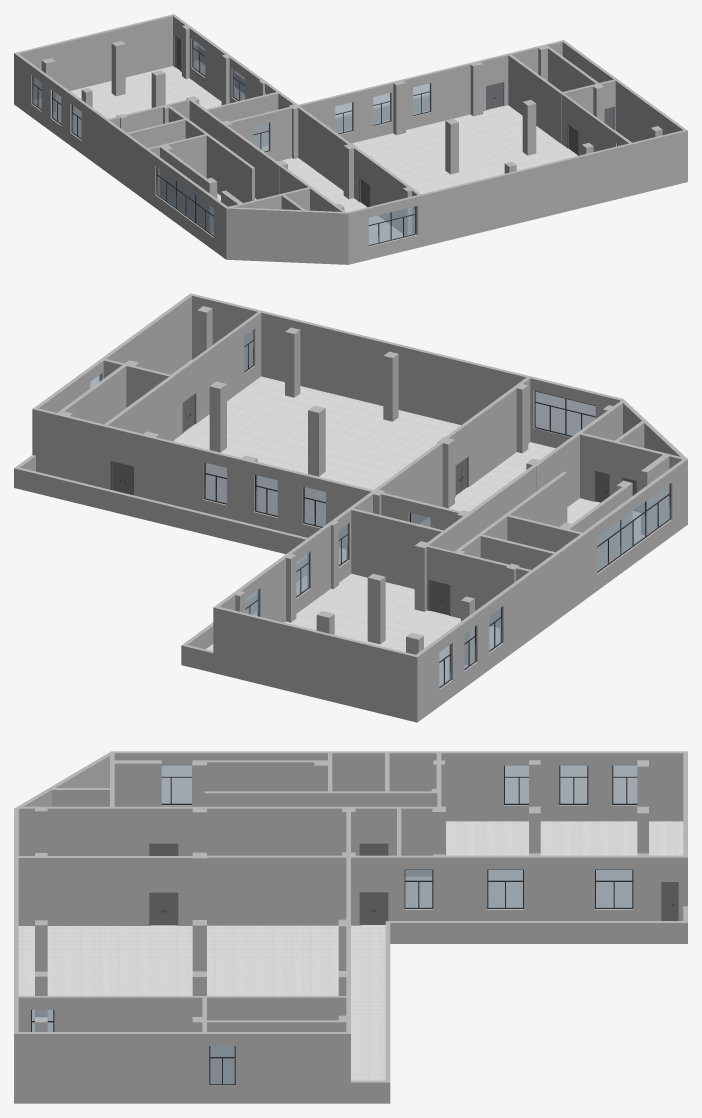
The model's file is floorFour.FBX.
3 views of the same model, one above another, from view 1: azimuth 30°, elevation 25°; view 2: azimuth 150°, elevation 25°; view 3: azimuth 270°, elevation 25° (orthographic). The views are drawn at different scales.
Visible parts, largest first — view 1: Line010, 图形325, Line002, Line003, Line001, Line011, Line009, Line012, Line008, Line007, Rectangle222, Line005 (+23 smaller); view 2: 图形325, Line010, Line002, Line001, Line011, Line003, Line015, Line007, Line009, Line012, Line008, Rectangle003 (+22 smaller); view 3: 图形325, Line010, Line002, Line011, Line009, Line003, Line008, Line015, Line005, Line007, Rectangle003, Line006 (+26 smaller).
Boxes of the visible parts, x1,y1,x2,y2 form: Line010: (370,78,687,247); 图形325: (34,60,631,244); Line002: (81,102,254,232); Line003: (214,177,368,264); Line001: (14,14,176,116); Line011: (503,40,605,147); Line009: (269,96,361,201); Line012: (430,59,485,123); Line008: (218,116,287,199); Line007: (186,90,283,147); Rectangle222: (157,167,213,235); Line005: (205,39,234,105); 图形325: (171,359,643,685); Line010: (99,293,534,486); Line002: (450,471,632,658); Line001: (213,604,439,722); Line011: (32,360,182,489); Line003: (560,393,687,535); Line015: (14,455,307,672); Line007: (346,504,451,611); Line009: (326,432,455,548); Line012: (134,431,205,512); Line008: (430,455,549,543); Rectangle003: (193,324,244,423); 图形325: (18,821,683,1080); Line010: (14,853,209,1103); Line002: (192,751,503,821); Line011: (185,993,350,1103); Line009: (178,838,359,925); Line003: (14,751,161,855); Line008: (178,806,359,855); Line015: (351,906,687,1103); Line005: (524,853,594,920); Line007: (388,806,445,920); Rectangle003: (54,996,156,1031); Line006: (433,854,487,920).
Bounding box in the file's own units: 34770 × 4000 × 35070.
Materials: 7 (1 with a texture image).
